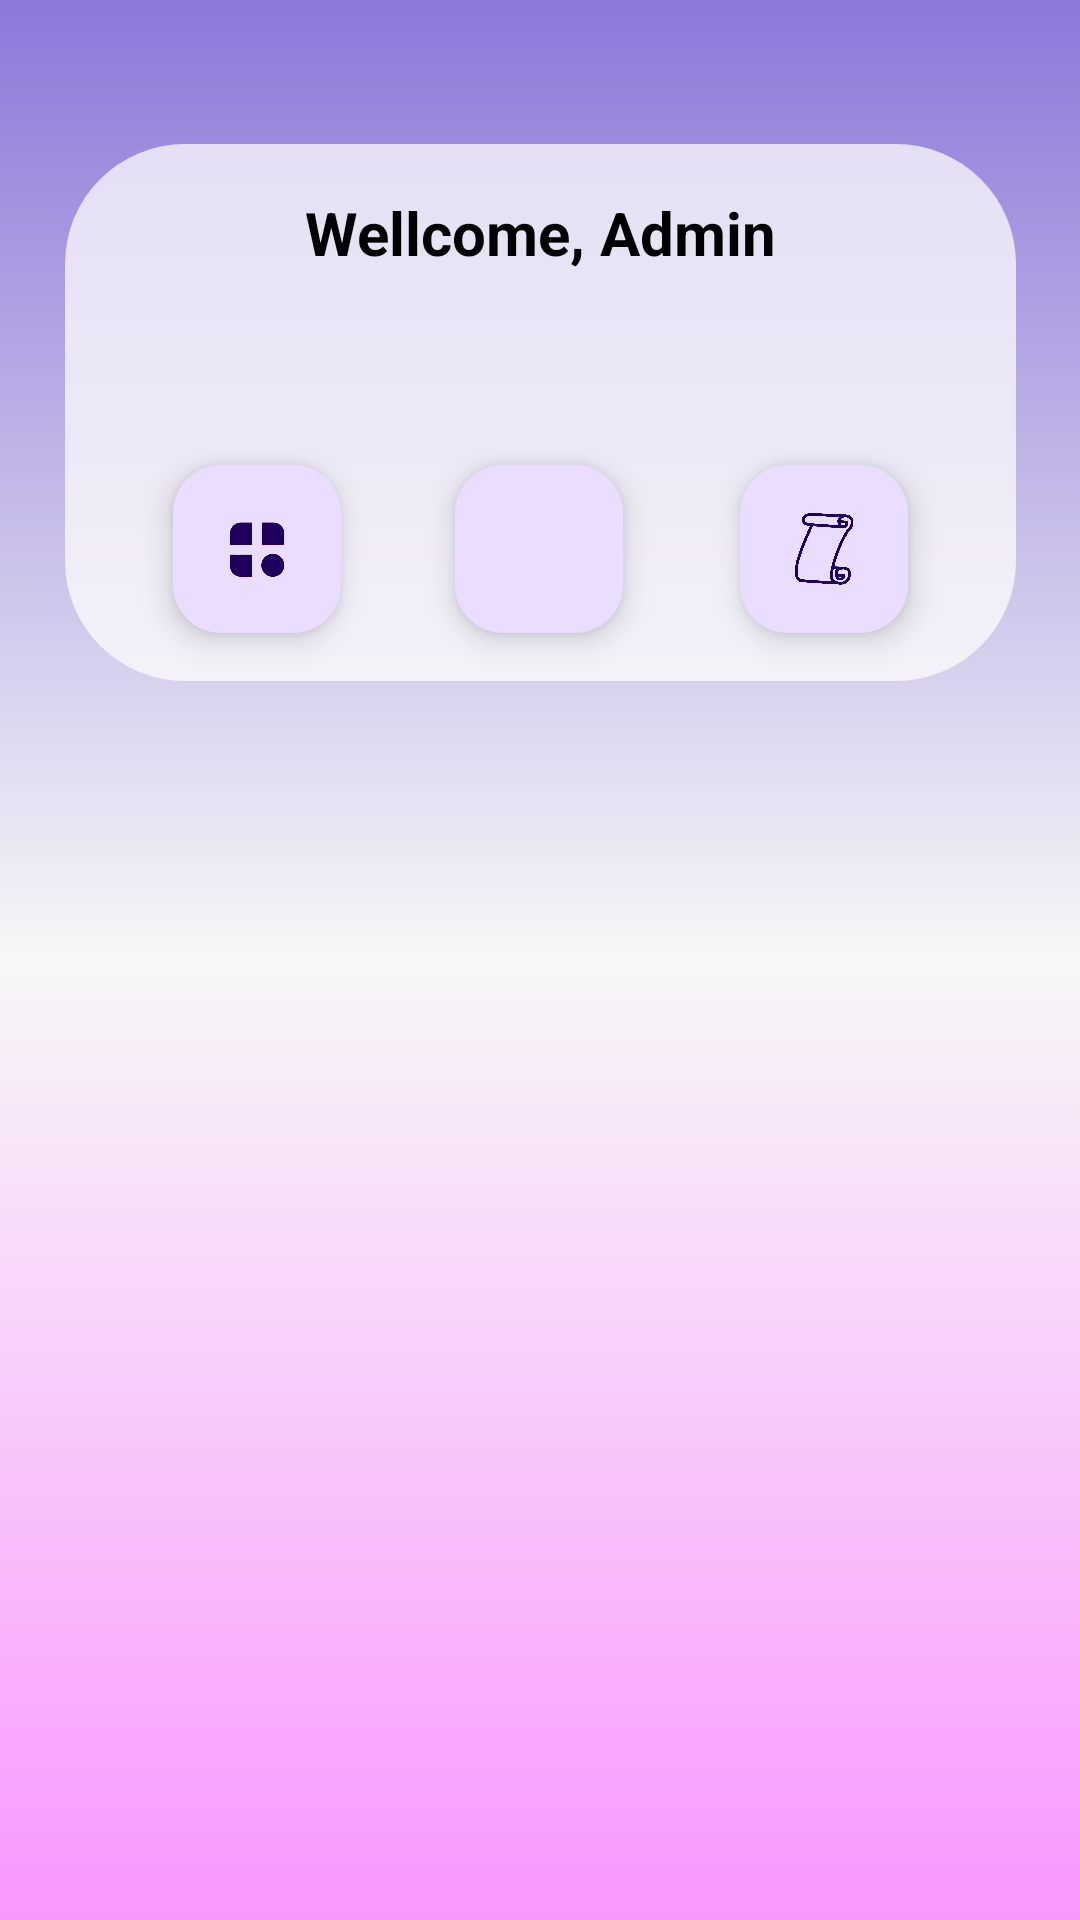

Screen size 1080*1920. Icon name, then its box in pixels as (x1, y1, x2, y2):
category: (230, 522, 284, 577)
